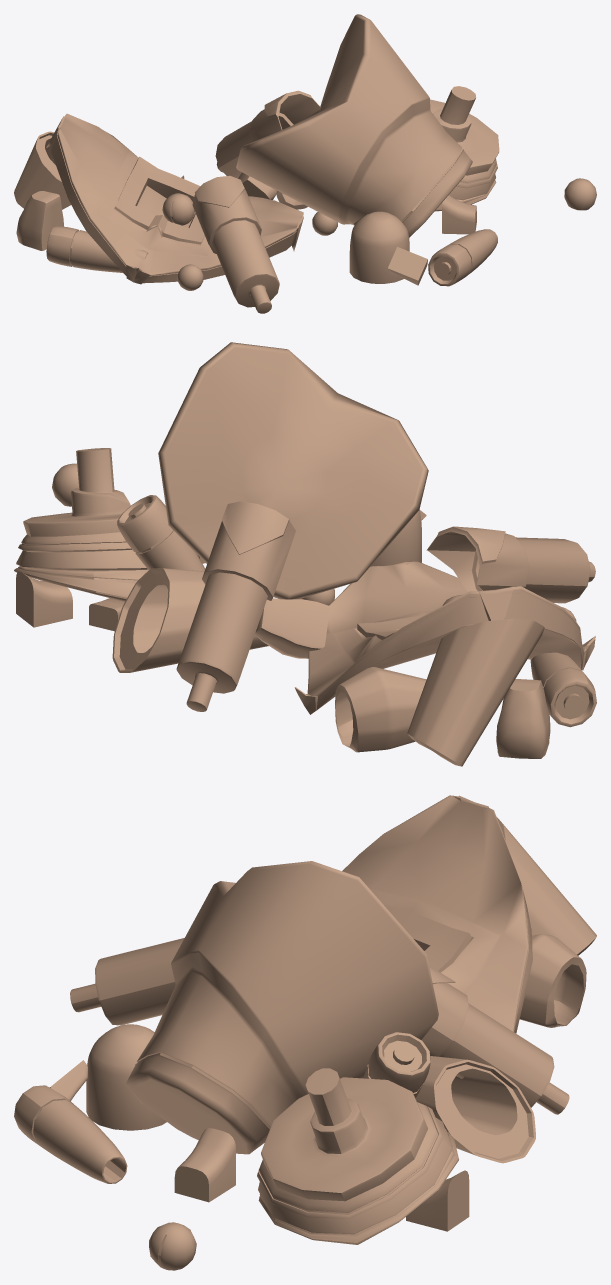
Rendered from broken_robot_parts.fbx.
The picture shows the model from 3 angles, top to bottom: view 1: azimuth 30°, elevation 25°; view 2: azimuth 150°, elevation 25°; view 3: azimuth 270°, elevation 25°; orthographic projection. The views are drawn at different scales.
Visible parts, largest first — view 1: Object004, Object023, Object024, Object006, Object005, Object003, Object026, Object027, Object009, Object013, Object014, Object016 (+5 smaller); view 2: Object004, Object023, Object003, Object009, Object006, Object024, Object022, Object018, Object001, Object013, Object012, Object027 (+4 smaller); view 3: Object004, Object006, Object023, Object022, Object003, Object024, Object026, Object005, Object018, Object009, Object014, Object001 (+3 smaller).
Part boxes in pixels (left/top/right/bottom): Object004: left=236, top=14, right=472, bottom=237; Object023: left=46, top=113, right=303, bottom=284; Object024: left=192, top=175, right=279, bottom=313; Object006: left=430, top=86, right=499, bottom=211; Object005: left=349, top=211, right=409, bottom=283; Object003: left=215, top=90, right=320, bottom=178; Object026: left=428, top=229, right=497, bottom=286; Object027: left=46, top=226, right=148, bottom=272; Object009: left=14, top=131, right=70, bottom=209; Object013: left=16, top=191, right=63, bottom=250; Object014: left=442, top=195, right=476, bottom=234; Object016: left=387, top=247, right=427, bottom=285; Object004: left=158, top=342, right=428, bottom=599; Object023: left=294, top=561, right=595, bottom=714; Object003: left=176, top=501, right=295, bottom=711; Object009: left=407, top=618, right=544, bottom=766; Object006: left=14, top=448, right=148, bottom=601; Object024: left=426, top=526, right=595, bottom=603; Object022: left=112, top=568, right=272, bottom=672; Object018: left=335, top=667, right=426, bottom=752; Object001: left=117, top=495, right=205, bottom=571; Object013: left=496, top=679, right=550, bottom=758; Object012: left=255, top=598, right=329, bottom=658; Object027: left=530, top=652, right=596, bottom=727; Object004: left=126, top=861, right=438, bottom=1154; Object006: left=257, top=1068, right=458, bottom=1244; Object023: left=342, top=795, right=532, bottom=1033; Object022: left=415, top=1056, right=535, bottom=1163; Object003: left=421, top=966, right=569, bottom=1114; Object024: left=70, top=938, right=184, bottom=1025; Object026: left=14, top=1085, right=127, bottom=1183; Object005: left=86, top=1024, right=166, bottom=1130; Object018: left=519, top=934, right=586, bottom=1027; Object009: left=496, top=817, right=596, bottom=955; Object014: left=174, top=1128, right=235, bottom=1202; Object001: left=363, top=1032, right=430, bottom=1098.
Size of the model in its own units: 76.51 by 30.71 by 55.27.
